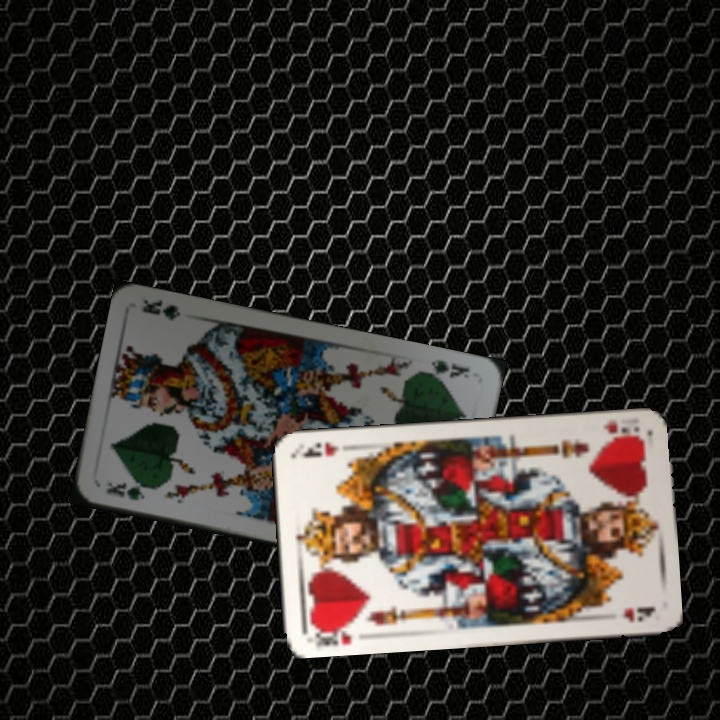GK: (417, 356, 472, 382), (102, 478, 157, 503)
HK: (307, 619, 358, 649), (599, 416, 645, 444)
